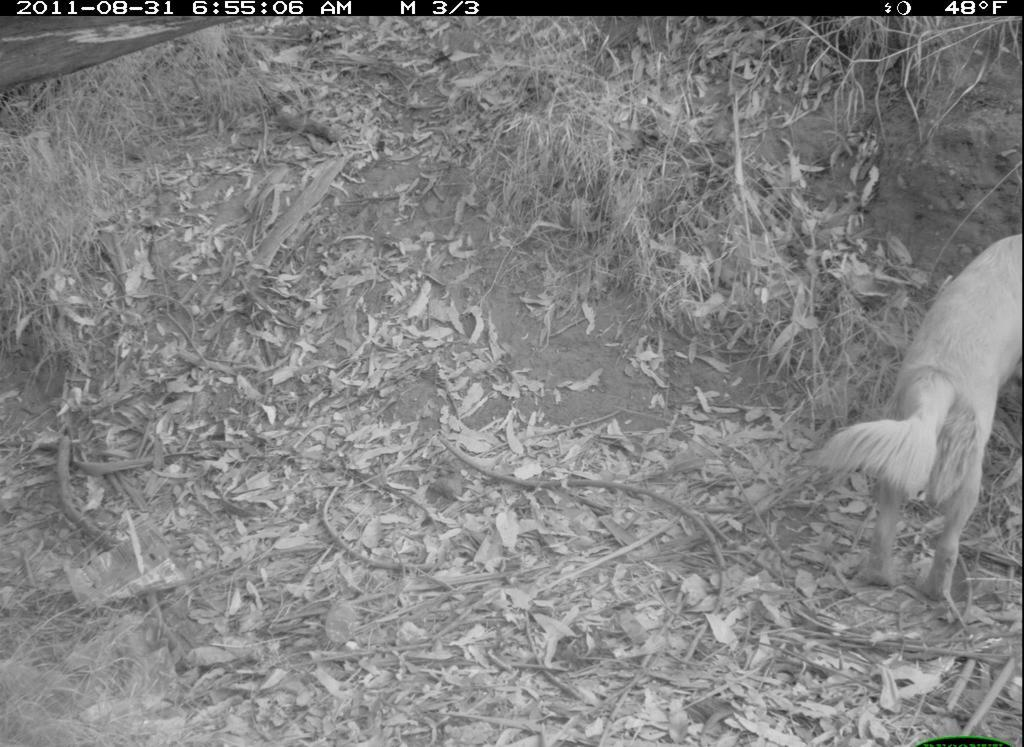dog: (827, 193, 1023, 616)
